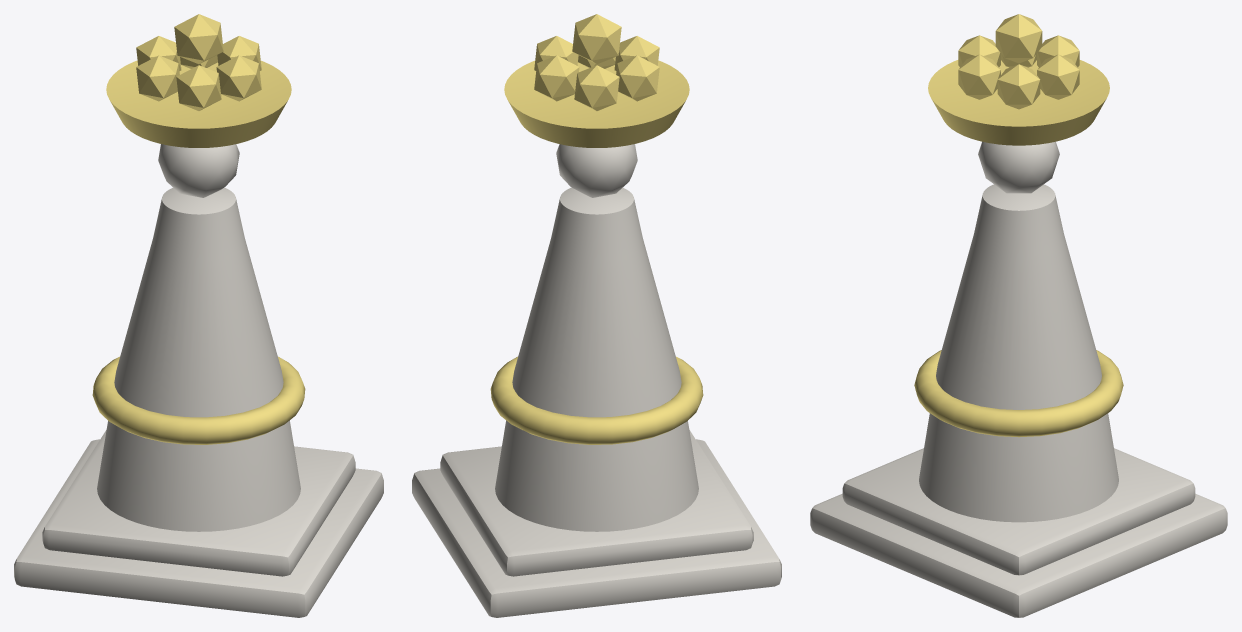
File: Cartagena_Dama.fbx
3 renders of one model, left to right at view 1: azimuth 30°, elevation 25°; view 2: azimuth 150°, elevation 25°; view 3: azimuth 270°, elevation 25°, orthographic.
Visible parts, largest first — view 1: Cartagena_Dama; view 2: Cartagena_Dama; view 3: Cartagena_Dama.
Part boxes in pixels (box(x1,y1,x2,y2)): Cartagena_Dama: box(14, 14, 383, 617); Cartagena_Dama: box(412, 14, 781, 617); Cartagena_Dama: box(810, 14, 1227, 617).
Bounding box in the file's own units: 0.9168 × 1.26 × 0.9168.
